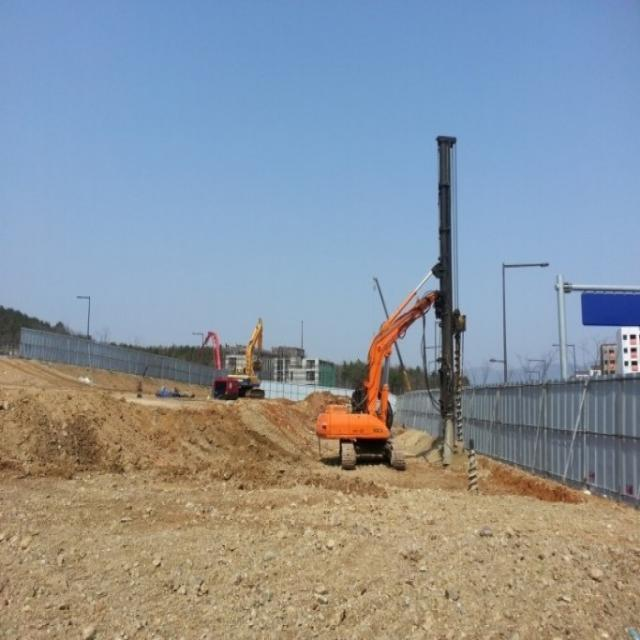excavator: (316, 290, 438, 468), (228, 318, 266, 398)
pile: (455, 334, 463, 442), (468, 439, 478, 489)
